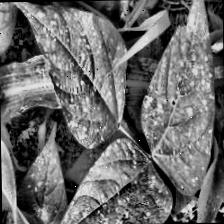Bean Rust: (5, 0, 126, 149), (139, 0, 216, 194), (42, 138, 176, 224), (16, 120, 79, 224)
